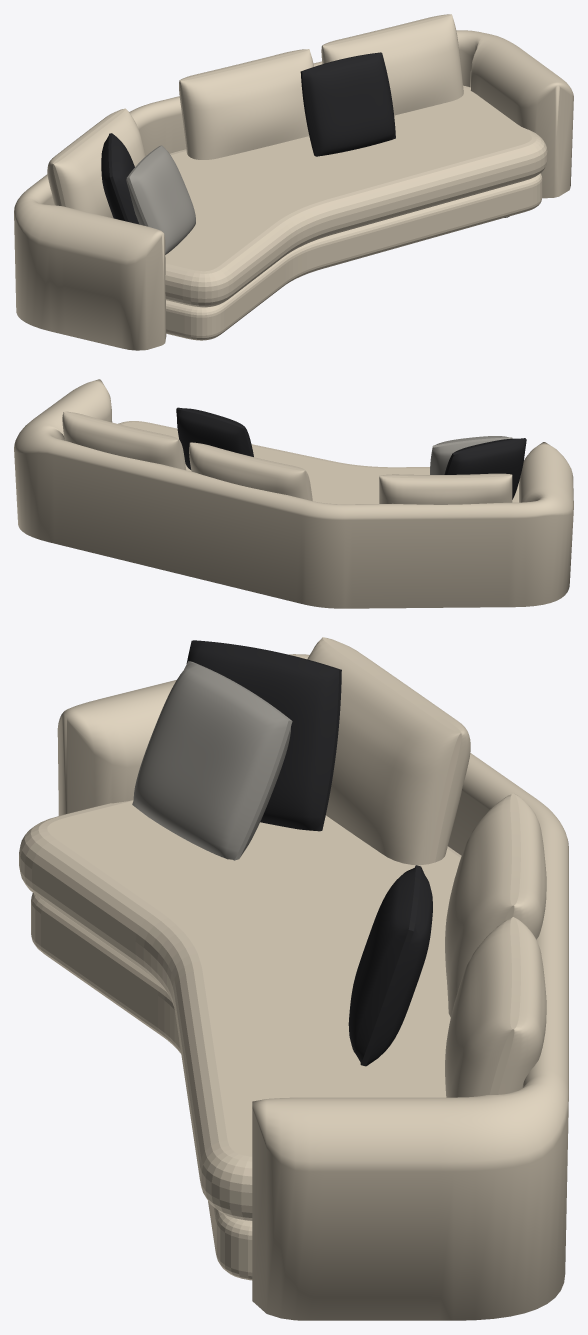
The model's file is germain-left.glb.
The picture shows the model from 3 angles, top to bottom: view 1: azimuth 30°, elevation 25°; view 2: azimuth 150°, elevation 25°; view 3: azimuth 270°, elevation 25°; orthographic projection. The views are drawn at different scales.
Visible parts, largest first — view 1: seat, shell, base, pillow, pillow2; view 2: shell, seat, pillow, pillow2; view 3: seat, shell, pillow, pillow2, base.
Boxes of the visible parts, x1=… form: seat: x1=47, y1=14, x2=547, y2=307; shell: x1=14, y1=30, x2=573, y2=350; base: x1=166, y1=173, x2=542, y2=340; pillow: x1=101, y1=52, x2=395, y2=224; pillow2: x1=126, y1=145, x2=195, y2=254; shell: x1=14, y1=379, x2=573, y2=608; seat: x1=62, y1=411, x2=519, y2=504; pillow: x1=176, y1=407, x2=526, y2=499; pillow2: x1=430, y1=436, x2=512, y2=474; seat: x1=19, y1=637, x2=546, y2=1220; shell: x1=57, y1=654, x2=568, y2=1320; pillow: x1=186, y1=640, x2=432, y2=1066; pillow2: x1=132, y1=661, x2=292, y2=860; base: x1=31, y1=893, x2=252, y2=1280.
Size of the model in its own units: 3.2 by 0.86 by 1.54.
